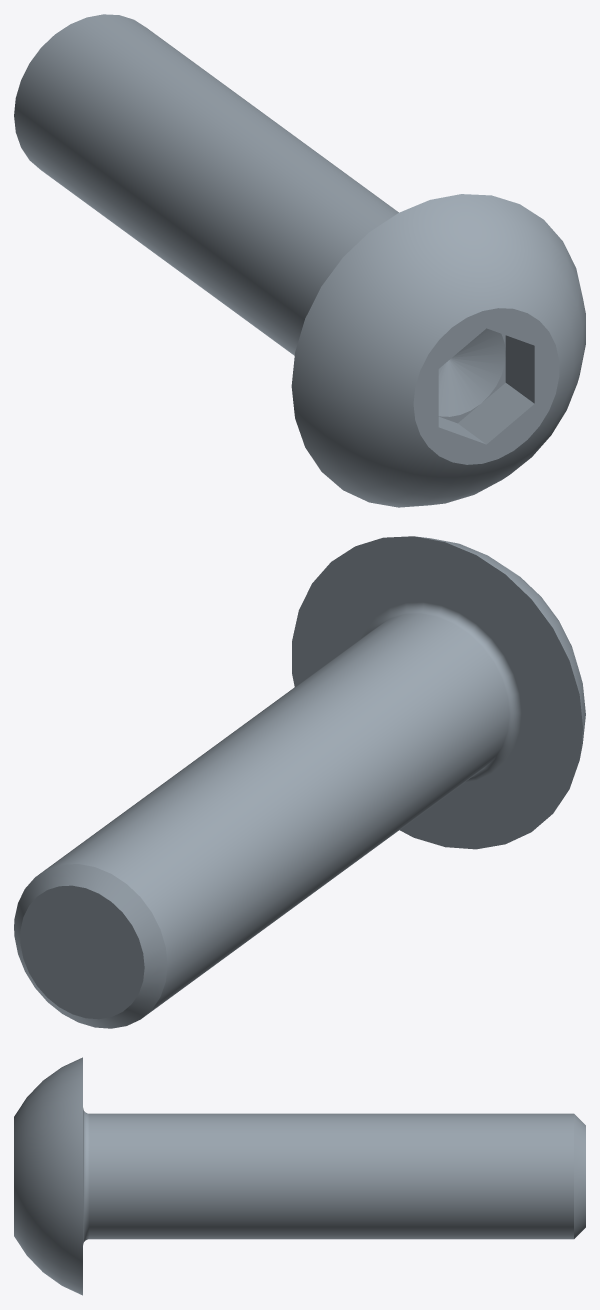
Rendered from Socket_button_head_screw_M4x0_7_x_16.obj.
The picture shows the model from 3 angles, top to bottom: view 1: azimuth 30°, elevation 25°; view 2: azimuth 150°, elevation 25°; view 3: azimuth 270°, elevation 25°; orthographic projection. The views are drawn at different scales.
Visible parts, largest first — view 1: mesh3567, mesh3570, mesh3571, mesh3579, mesh3576, mesh3577; view 2: mesh3567, mesh3569, mesh3565, mesh3566, mesh3568, mesh3570; view 3: mesh3567, mesh3570, mesh3566, mesh3568.
Part boxes in pixels (x1,y1,x2,y2): mesh3567: (14,14,398,355); mesh3570: (291,194,585,507); mesh3571: (413,308,559,464); mesh3579: (438,328,505,416); mesh3576: (458,383,534,444); mesh3577: (505,335,534,403); mesh3567: (39,613,509,1017); mesh3569: (292,536,582,849); mesh3565: (20,885,144,1019); mesh3566: (14,864,167,1028); mesh3568: (360,602,521,782); mesh3570: (415,536,585,757); mesh3567: (89,1113,573,1239); mesh3570: (14,1057,82,1295); mesh3566: (574,1114,585,1238); mesh3568: (83,1108,89,1244).
Bounding box in the file's own units: 0.00758 × 0.00759 × 0.0182.
